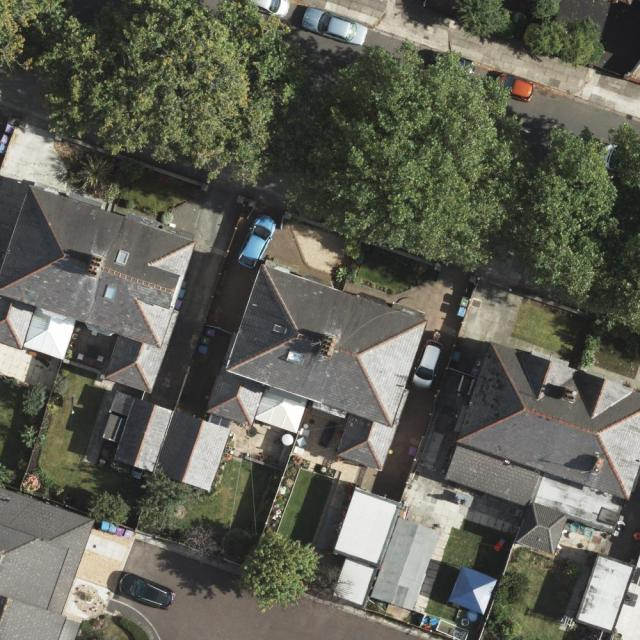roof: (100, 263, 430, 492), (443, 342, 640, 555), (0, 186, 199, 394), (0, 487, 97, 640), (333, 490, 441, 611), (574, 552, 640, 640)
skylight: (284, 348, 306, 366), (101, 284, 120, 304), (113, 248, 131, 266), (270, 324, 288, 335)
